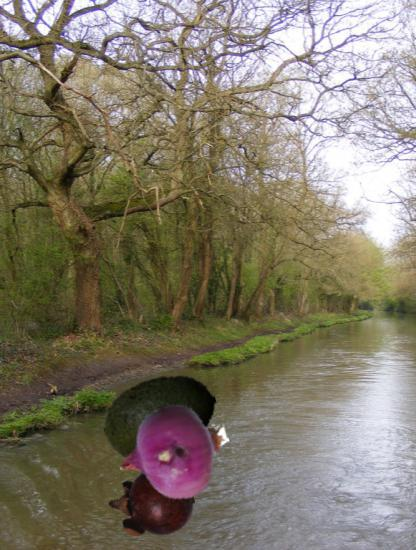Avocado: (103, 362, 219, 478)
Mangostan: (109, 461, 194, 546)
Onion: (118, 396, 231, 509)
